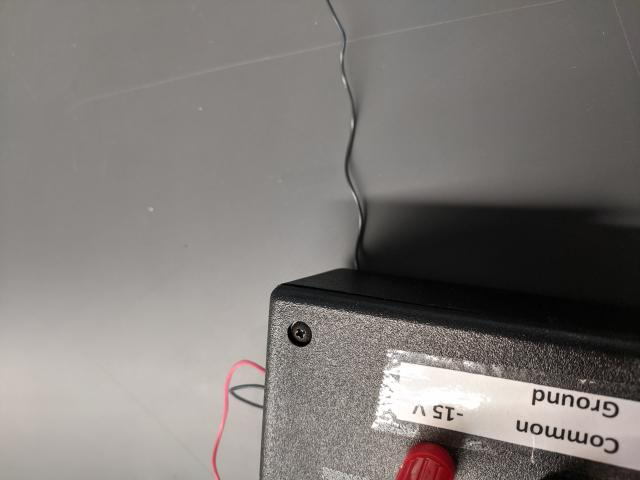CRS: (288, 320, 312, 345)
